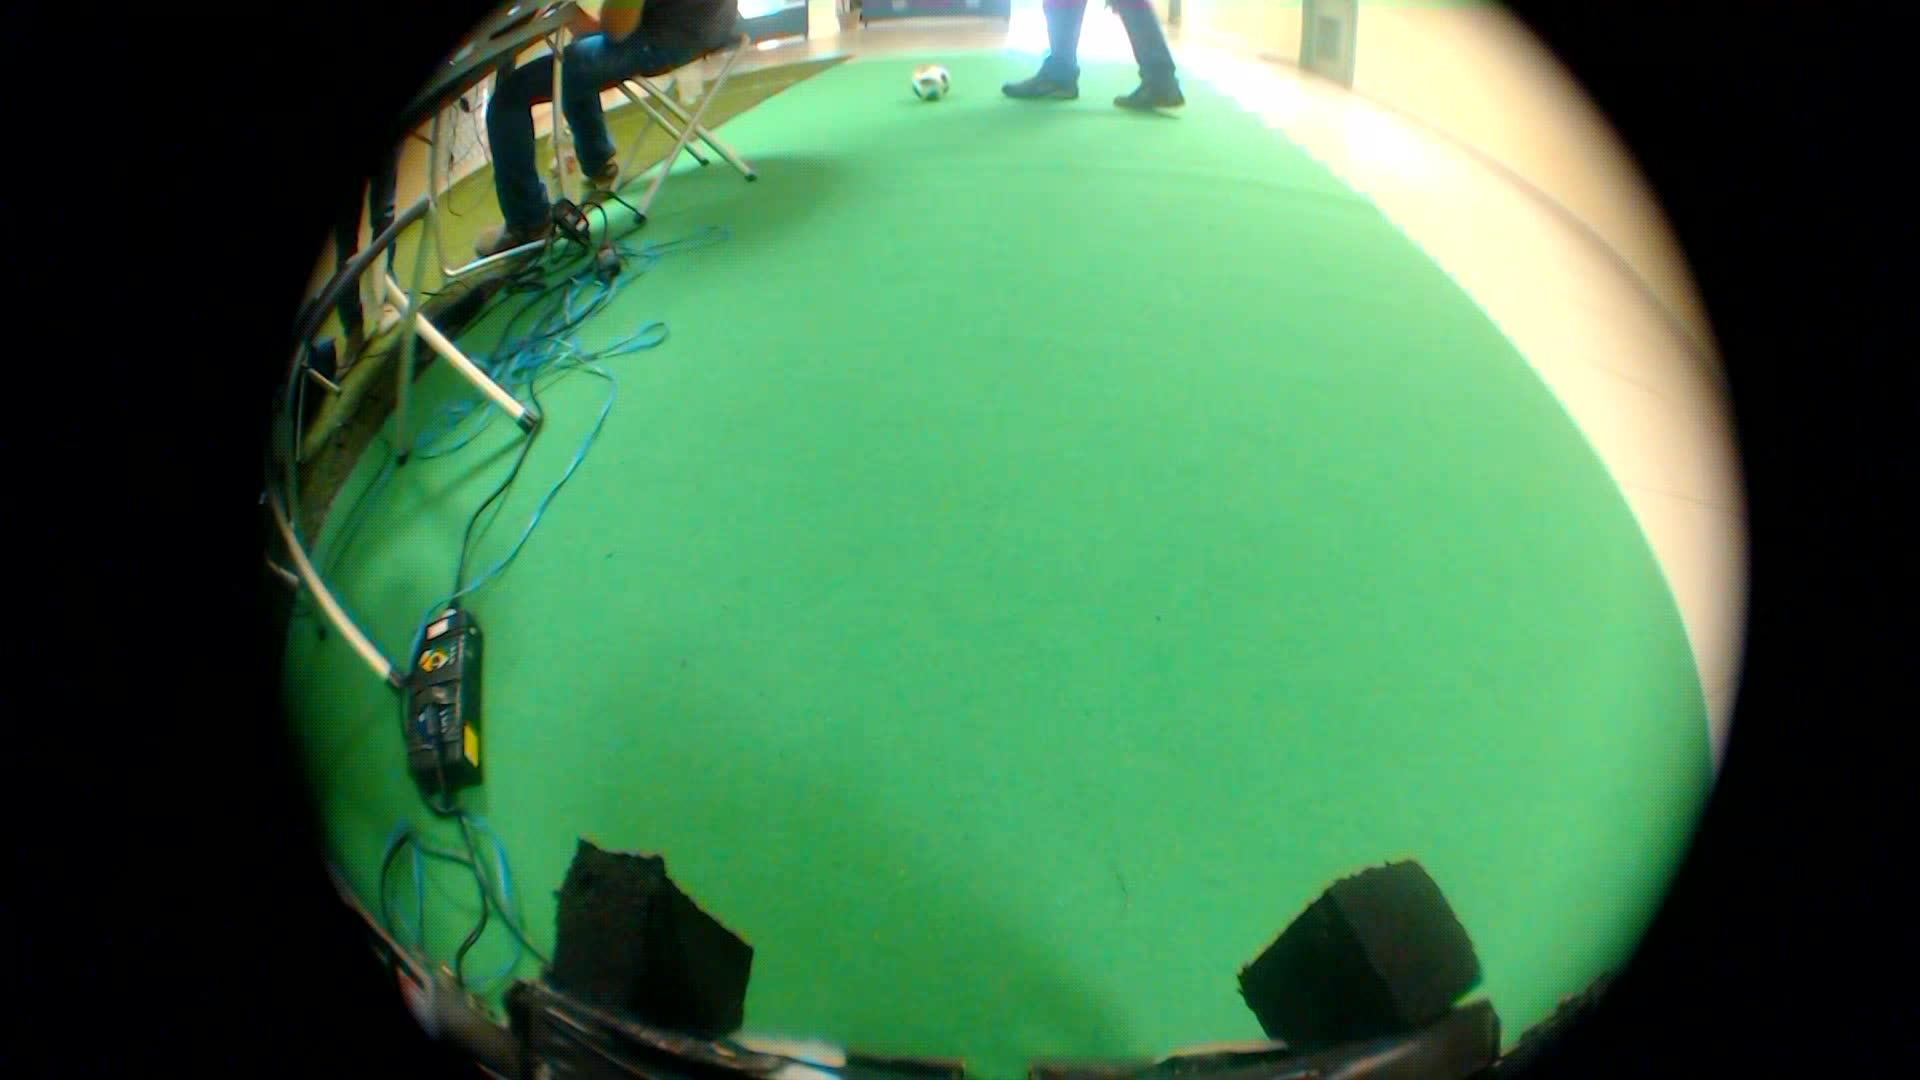ball: (905, 54, 951, 109)
